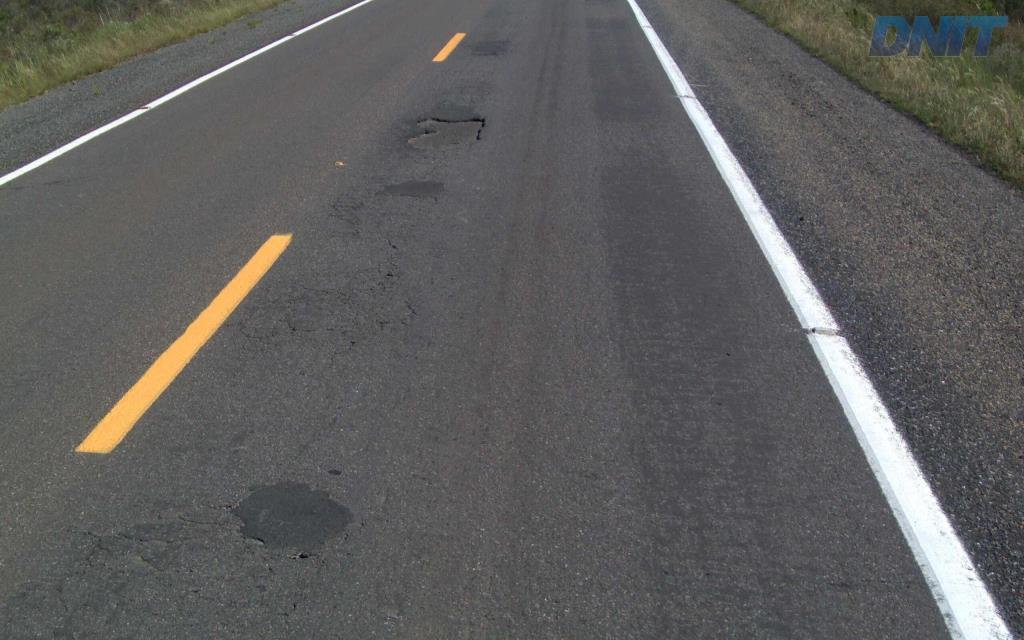pothole: (402, 109, 484, 150)
